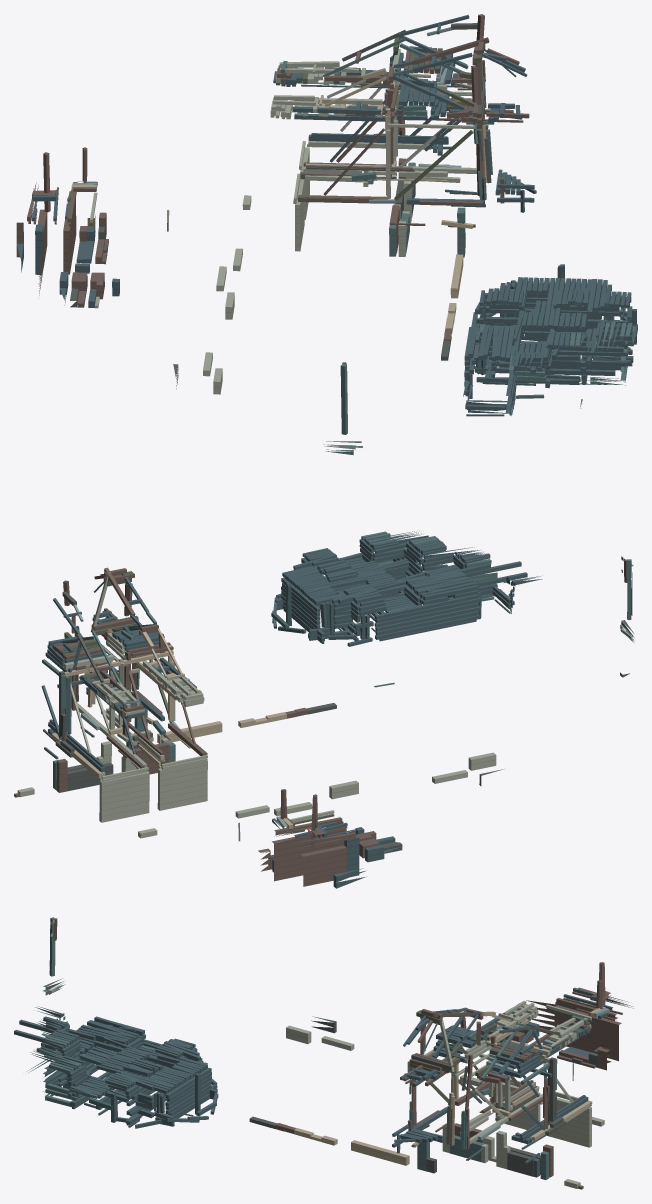
File: terminal-1---138_-17.glb
3 renders of one model, top to bottom at view 1: azimuth 30°, elevation 25°; view 2: azimuth 150°, elevation 25°; view 3: azimuth 270°, elevation 25°, orthographic. The views are drawn at different scales.
Parts seen in each view (by area): view 1: measured-industrial; view 2: measured-industrial; view 3: measured-industrial.
Boxes of the visible parts, x1=… form: measured-industrial: x1=16, y1=14, x2=637, y2=455; measured-industrial: x1=14, y1=531, x2=634, y2=888; measured-industrial: x1=14, y1=917, x2=633, y2=1189.
Size of the model in its own units: 182 by 84.8 by 281.
